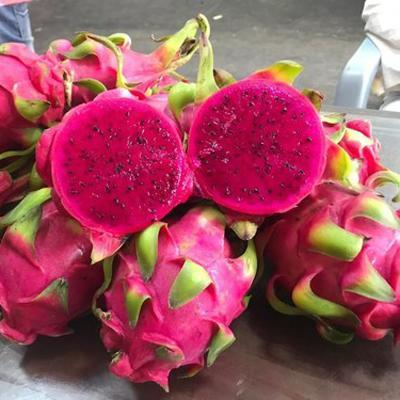dragon-fruit: (97, 203, 248, 371), (252, 180, 400, 334), (186, 77, 329, 218), (48, 96, 186, 236), (0, 196, 120, 337), (0, 41, 66, 153), (64, 43, 156, 107), (325, 118, 383, 190)
